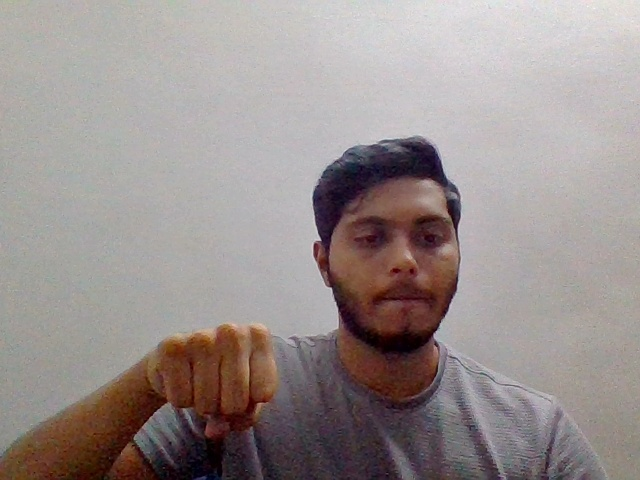Yes: (139, 315, 288, 443)
